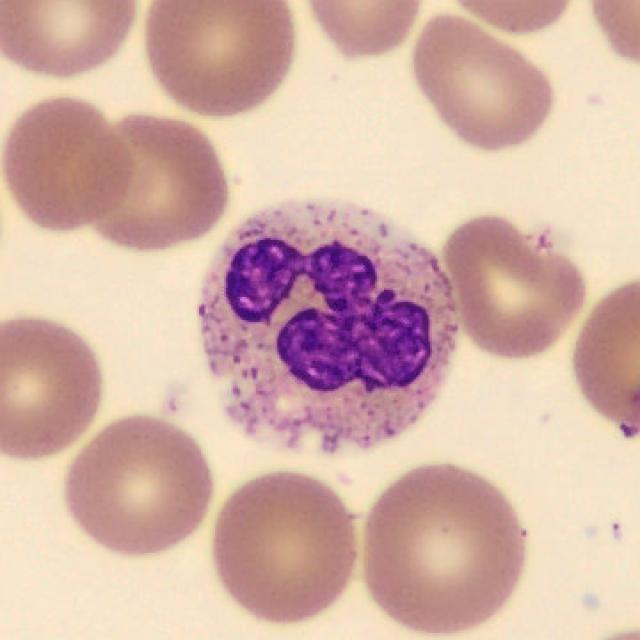Neutrofilo segmentado: (197, 201, 459, 450)
